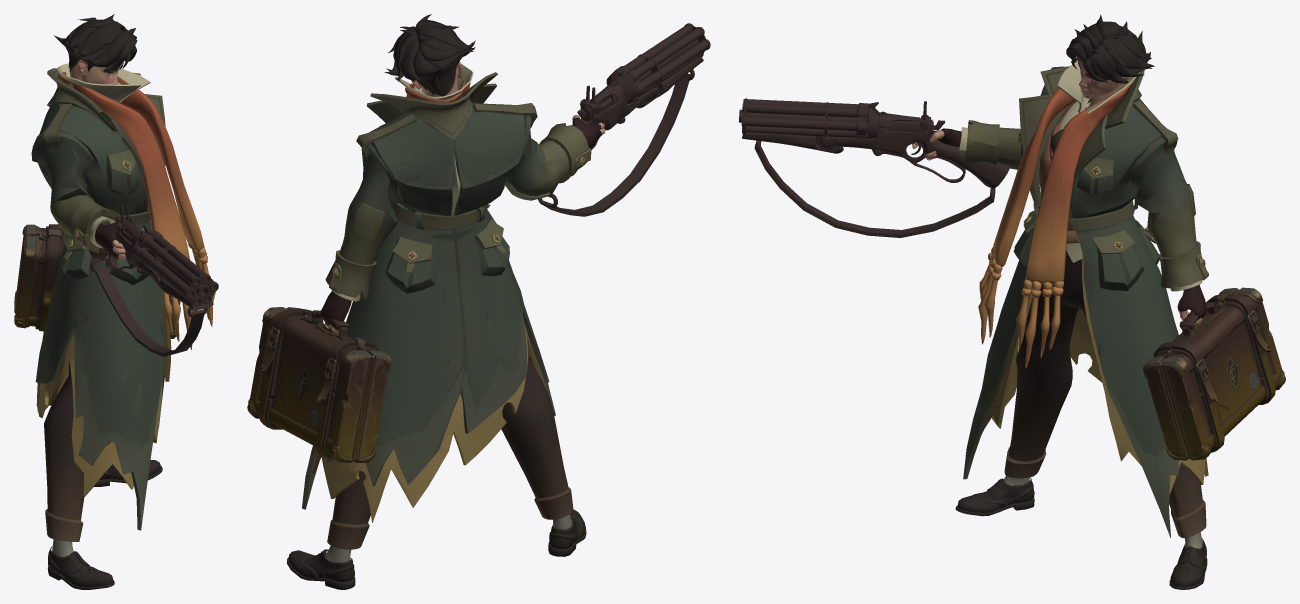
3 views of the same model, side by side, from view 1: azimuth 30°, elevation 25°; view 2: azimuth 150°, elevation 25°; view 3: azimuth 270°, elevation 25° (orthographic). The views are drawn at different scales.
Visible parts, largest first — view 1: models/heroes_wip/pocket/pocket.vmdl_c.pocket, models/heroes_wip/pocket/pocket.vmdl_c.coat_scarf, models/heroes_wip/pocket/pocket.vmdl_c.gun, models/heroes_wip/pocket/pocket.vmdl_c.briefcase; view 2: models/heroes_wip/pocket/pocket.vmdl_c.pocket, models/heroes_wip/pocket/pocket.vmdl_c.coat_scarf, models/heroes_wip/pocket/pocket.vmdl_c.briefcase, models/heroes_wip/pocket/pocket.vmdl_c.gun; view 3: models/heroes_wip/pocket/pocket.vmdl_c.pocket, models/heroes_wip/pocket/pocket.vmdl_c.coat_scarf, models/heroes_wip/pocket/pocket.vmdl_c.briefcase, models/heroes_wip/pocket/pocket.vmdl_c.gun.
Part boxes in pixels (x1,y1,x2,y2): models/heroes_wip/pocket/pocket.vmdl_c.pocket: (32,14,215,589); models/heroes_wip/pocket/pocket.vmdl_c.coat_scarf: (31,68,212,530); models/heroes_wip/pocket/pocket.vmdl_c.gun: (88,205,218,356); models/heroes_wip/pocket/pocket.vmdl_c.briefcase: (14,224,180,338); models/heroes_wip/pocket/pocket.vmdl_c.pocket: (287,14,605,589); models/heroes_wip/pocket/pocket.vmdl_c.coat_scarf: (302,73,590,522); models/heroes_wip/pocket/pocket.vmdl_c.briefcase: (247,307,391,463); models/heroes_wip/pocket/pocket.vmdl_c.gun: (538,23,710,216); models/heroes_wip/pocket/pocket.vmdl_c.pocket: (912,14,1208,589); models/heroes_wip/pocket/pocket.vmdl_c.coat_scarf: (959,66,1208,537); models/heroes_wip/pocket/pocket.vmdl_c.briefcase: (1143,287,1285,460); models/heroes_wip/pocket/pocket.vmdl_c.gun: (739,98,1010,237).
Bounding box in the file's own units: 1.06 × 2.37 × 2.24.
Materials: 5 (3 with a texture image).
